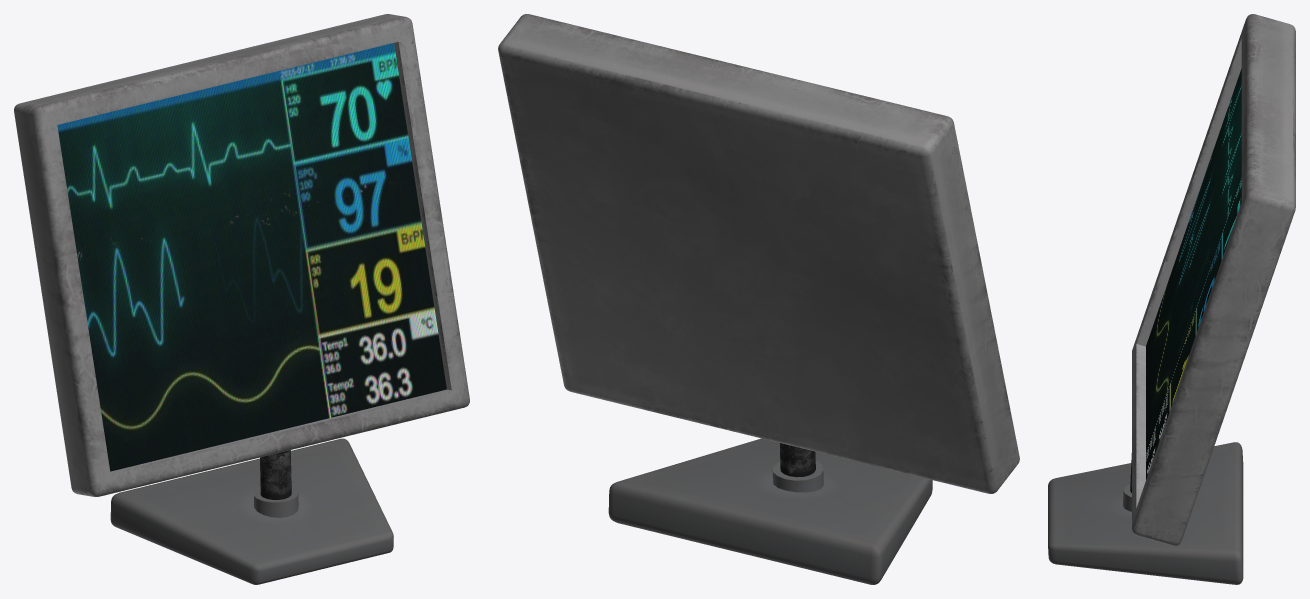
Rendered from monitor_with_heart_rate.glb.
3 renders of one model, left to right at view 1: azimuth 30°, elevation 25°; view 2: azimuth 150°, elevation 25°; view 3: azimuth 270°, elevation 25°, orthographic. The views are drawn at different scales.
Visible parts, largest first — view 1: SM_monitor#, SM_monitor_stand; view 2: SM_monitor#, SM_monitor_stand; view 3: SM_monitor#, SM_monitor_stand.
Boxes of the visible parts, x1,y1,x2,y2 form: SM_monitor#: (14,14,469,496); SM_monitor_stand: (110,438,393,584); SM_monitor#: (498,14,1019,493); SM_monitor_stand: (608,438,932,584); SM_monitor#: (1132,14,1295,545); SM_monitor_stand: (1048,442,1243,584).
Size of the model in its own units: 43.88 by 47.98 by 25.13.
1 material, 1 textured.
